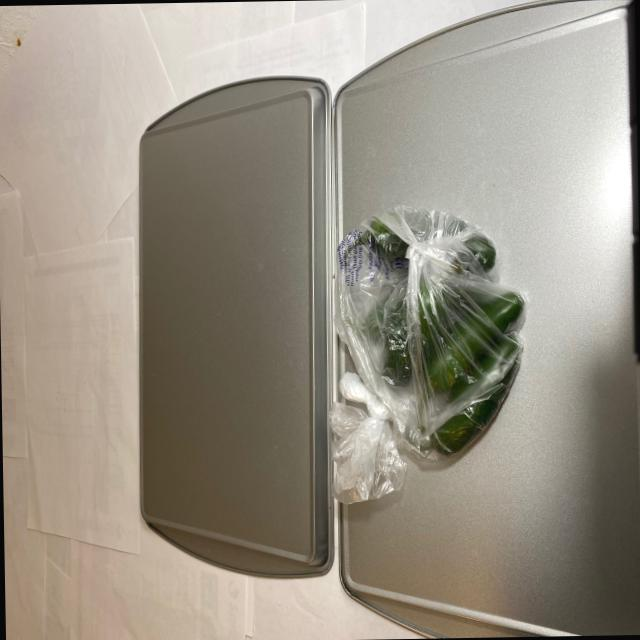chilli: (344, 202, 514, 460)
